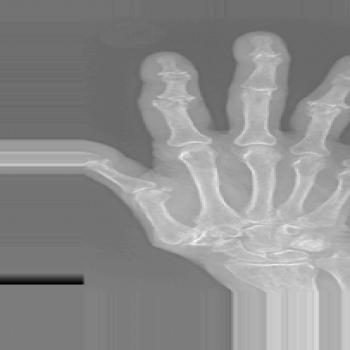Fracture: (144, 94, 202, 108)
